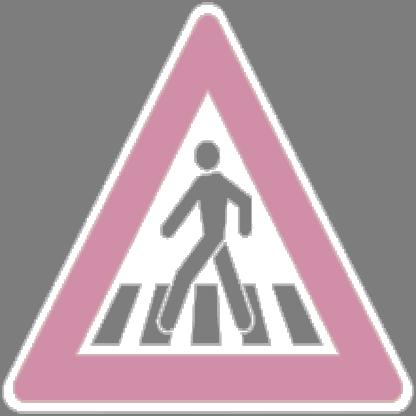Pedestrian Crossing: (20, 33, 416, 402)
